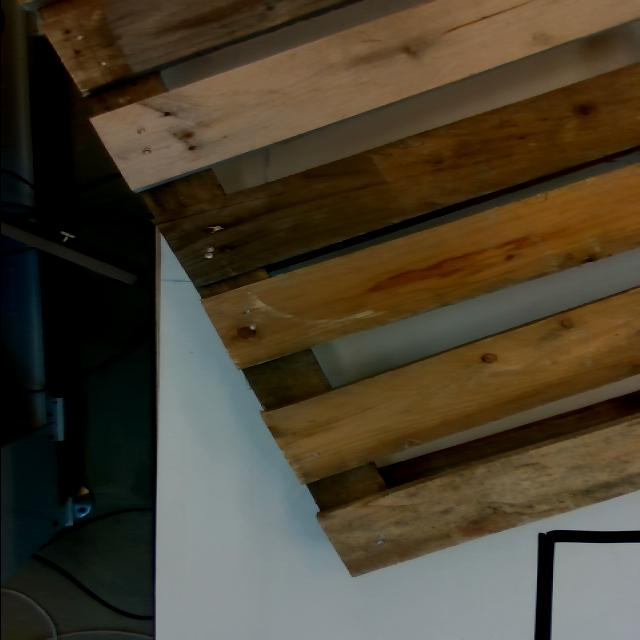pallet: (32, 0, 640, 577)
